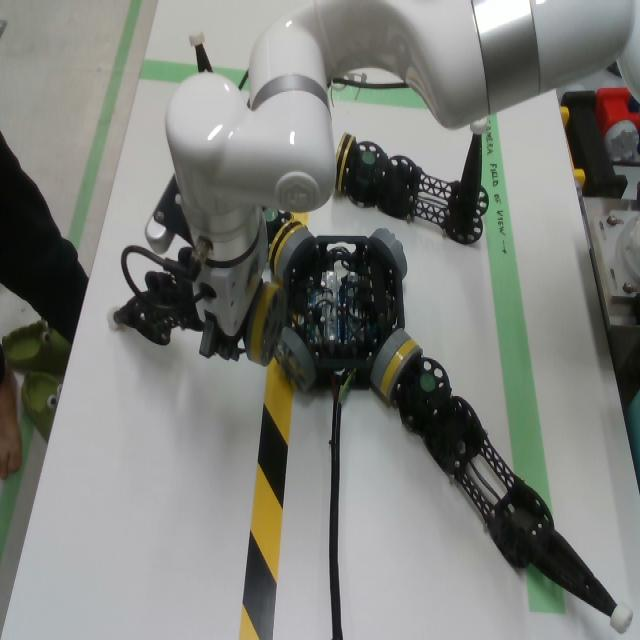body: (283, 236, 405, 391)
body_connector: (274, 328, 318, 392), (370, 329, 411, 389), (369, 228, 407, 280), (276, 227, 314, 277)
gripper: (193, 215, 268, 363)
leg: (380, 339, 634, 635), (335, 117, 489, 245), (106, 271, 205, 347), (242, 281, 286, 368), (264, 208, 302, 275), (188, 31, 213, 73)
leg_connector: (243, 283, 285, 368), (380, 340, 423, 401), (269, 220, 304, 276), (335, 132, 356, 195)
leg_marker: (420, 373, 435, 392), (264, 208, 279, 221), (362, 152, 375, 164)
